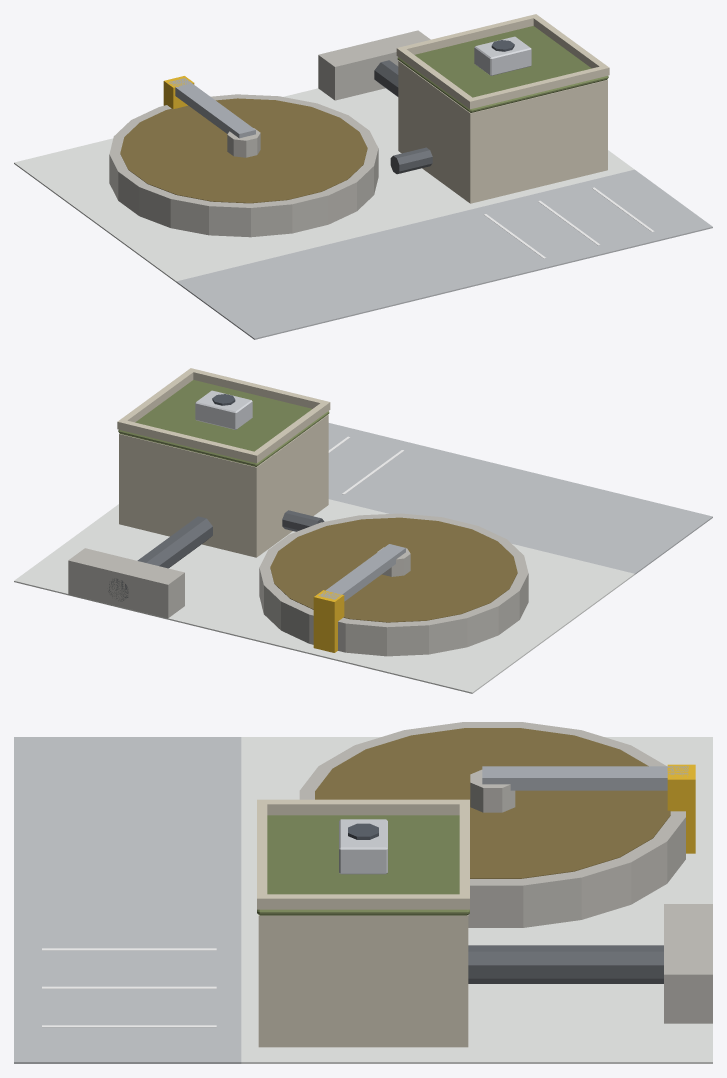
File: sewageoutlet.glb
The picture shows the model from 3 angles, top to bottom: view 1: azimuth 30°, elevation 25°; view 2: azimuth 150°, elevation 25°; view 3: azimuth 270°, elevation 25°; orthographic projection. The views are drawn at different scales.
Parts seen in each view (by area): view 1: sewageoutlet; view 2: sewageoutlet; view 3: sewageoutlet.
Part boxes in pixels (box(x1,y1,x2,y2)): sewageoutlet: box(14, 14, 712, 339); sewageoutlet: box(14, 368, 712, 693); sewageoutlet: box(14, 722, 712, 1063).
Size of the model in its own units: 22 by 5.37 by 20.
